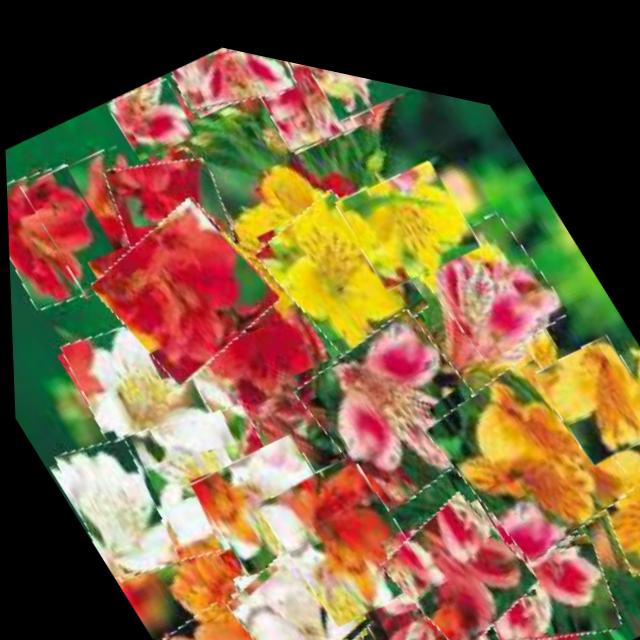Flower: (414, 306, 640, 567), (282, 267, 509, 521), (75, 163, 293, 403), (109, 360, 310, 586), (246, 153, 436, 375), (48, 283, 235, 500), (250, 423, 433, 634), (184, 403, 365, 609), (366, 451, 548, 640), (14, 121, 185, 314), (408, 172, 574, 362), (451, 469, 631, 640), (40, 411, 195, 596), (91, 114, 245, 285), (330, 122, 485, 291), (4, 144, 134, 329), (209, 506, 381, 640), (216, 515, 376, 640), (346, 529, 516, 640), (528, 294, 640, 452), (244, 42, 382, 160), (166, 28, 302, 135), (564, 373, 640, 562), (282, 48, 430, 123), (104, 58, 203, 168), (144, 572, 301, 640), (228, 606, 403, 640)
